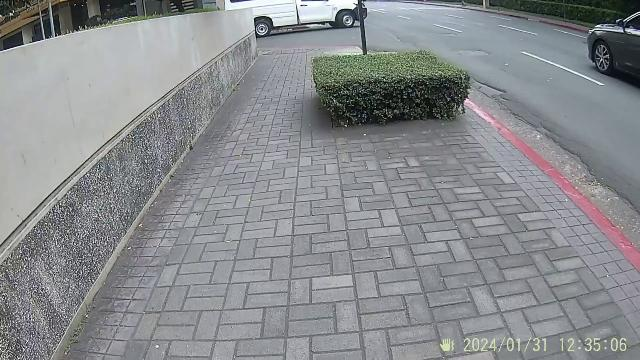potted_plant: (305, 50, 475, 122)
